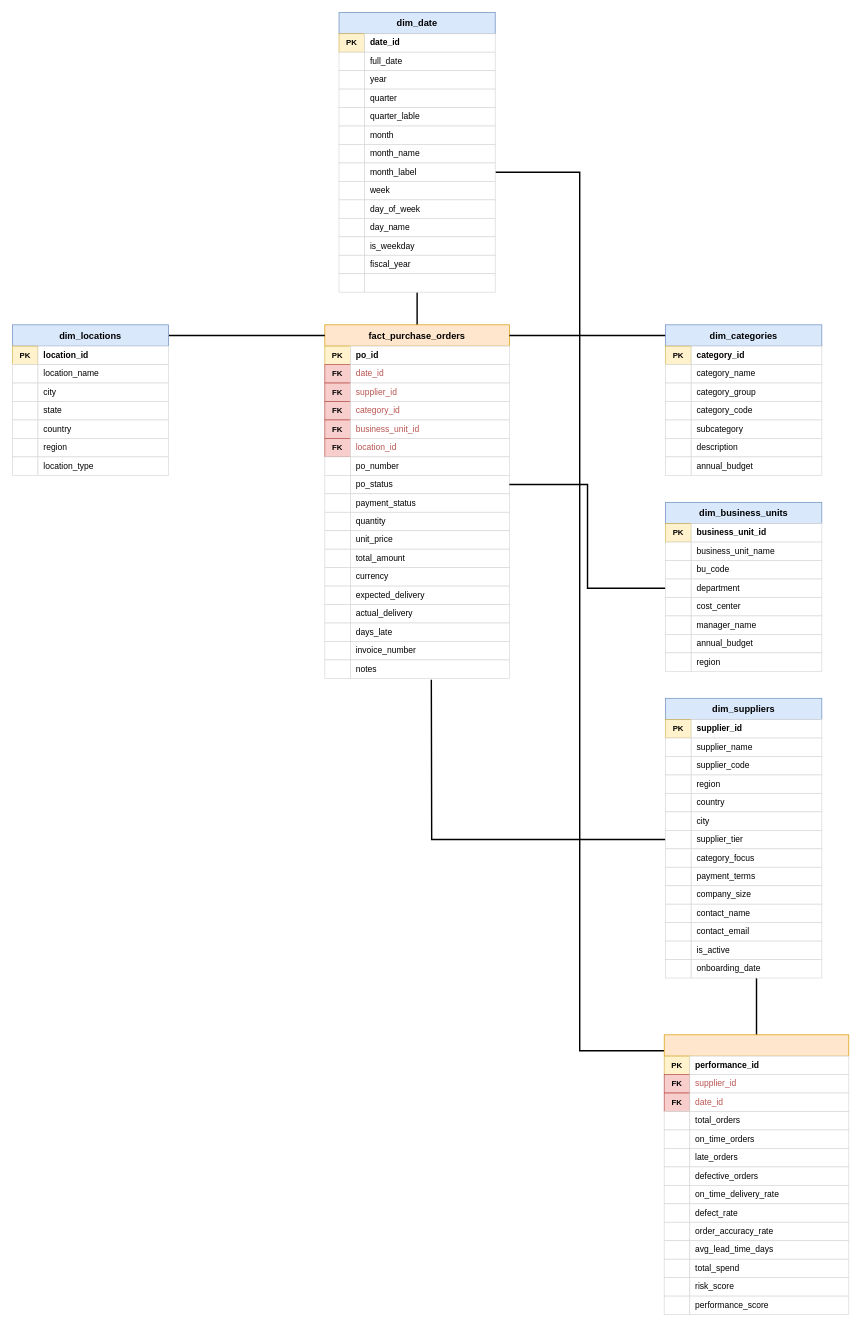
The diagram is 861 pixels wide and 1327 high, and some of its shapes have lost their labels. Each missing label, with the centre of its shape:
"fact_supplier_performance" belongs at point (756, 1045).
"fiscal_quarter" belongs at point (429, 282).
